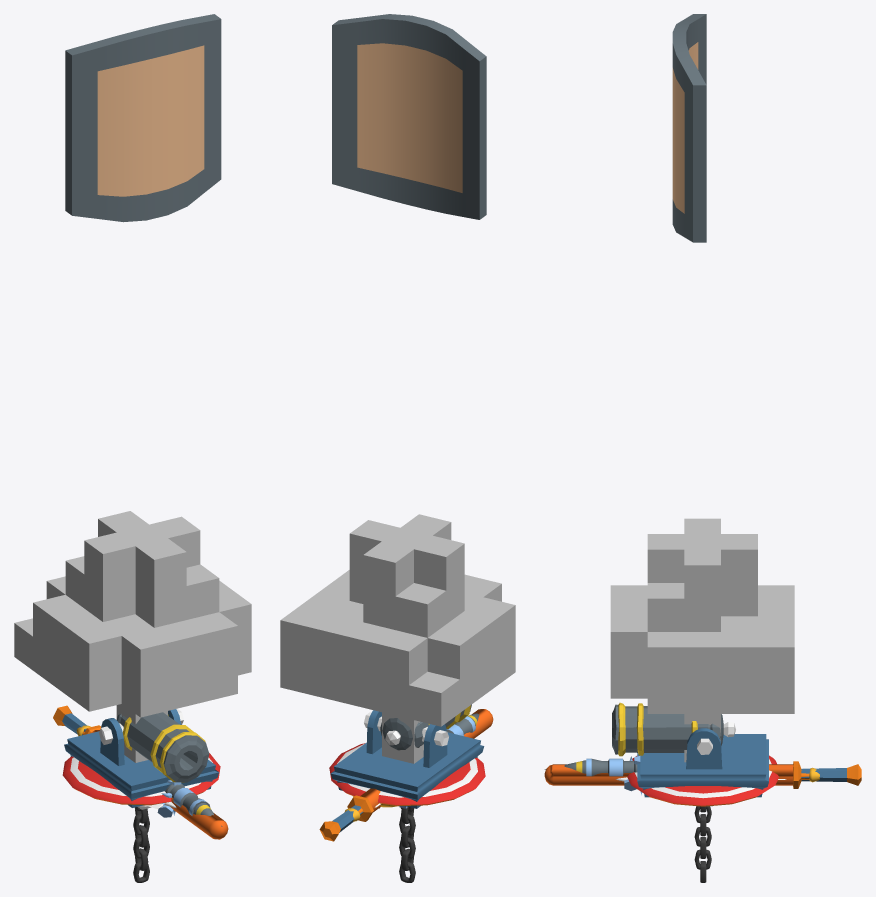
File: Asset_game 1.fbx
The picture shows the model from 3 angles, left to right: view 1: azimuth 30°, elevation 25°; view 2: azimuth 150°, elevation 25°; view 3: azimuth 270°, elevation 25°; orthographic projection. The views are drawn at different scales.
Parts seen in each view (by area): view 1: Tree, Shield, canon, nong, Shield_Captain, Sword_Lazer, Chain, bazoka; view 2: Tree, Shield, canon, Shield_Captain, Sword_Lazer, nong, Chain; view 3: Tree, Shield, canon, nong, Sword_Lazer, Shield_Captain, Chain, bazoka.
Part boxes in pixels (x1,y1,x2,y2): Tree: [14, 511, 251, 762]; Shield: [65, 14, 221, 222]; canon: [64, 709, 218, 807]; nong: [99, 709, 209, 782]; Shield_Captain: [62, 753, 220, 805]; Sword_Lazer: [53, 705, 228, 839]; Chain: [133, 807, 149, 882]; bazoka: [165, 784, 210, 815]; Tree: [280, 514, 515, 763]; Shield: [332, 14, 486, 219]; canon: [330, 710, 484, 808]; Shield_Captain: [329, 743, 485, 806]; Sword_Lazer: [319, 709, 493, 841]; nong: [364, 704, 471, 750]; Chain: [399, 807, 415, 882]; Tree: [610, 518, 794, 762]; Shield: [672, 14, 706, 242]; canon: [637, 728, 768, 797]; nong: [612, 702, 735, 756]; Sword_Lazer: [544, 761, 861, 788]; Shield_Captain: [627, 755, 778, 806]; Chain: [694, 806, 711, 882]; bazoka: [586, 758, 712, 806].
Size of the model in its own units: 196 by 993 by 338.
